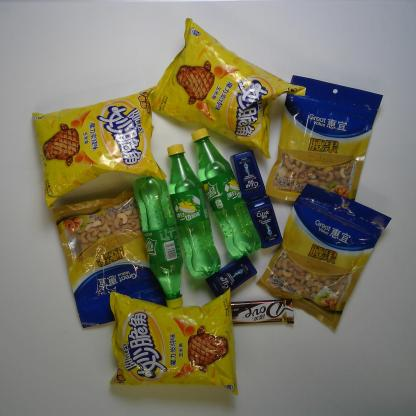Chocolate: (210, 298, 298, 327)
Dried Fruit: (262, 180, 395, 334), (266, 75, 386, 210), (51, 198, 168, 331)
Drink: (150, 141, 232, 293), (184, 127, 264, 260), (128, 176, 193, 310)
Personal Hygiene: (202, 252, 260, 301), (242, 192, 286, 249), (231, 148, 272, 206)
Puffed Food: (139, 18, 297, 160), (29, 85, 169, 211), (101, 287, 256, 398)
